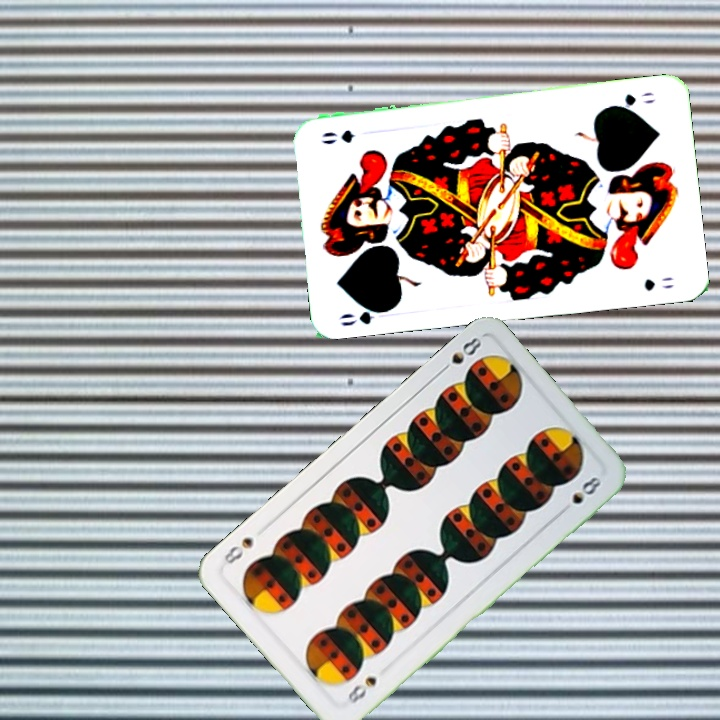GO: (335, 301, 394, 329), (604, 88, 658, 113)
S8: (434, 333, 485, 377), (343, 672, 379, 707)
